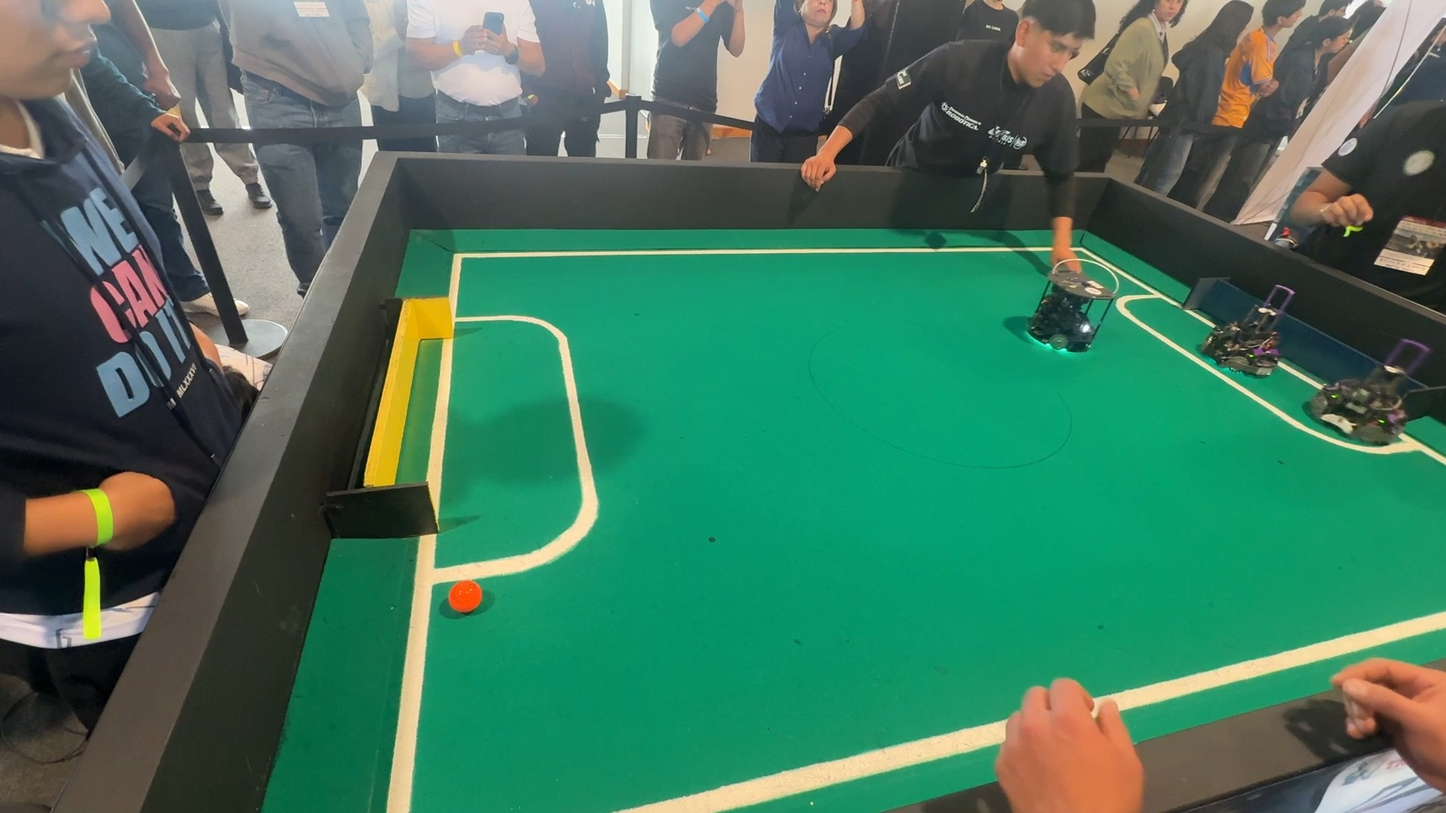Robot: (1300, 322, 1444, 454), (992, 242, 1125, 373), (1200, 271, 1307, 403)
pelota: (444, 577, 495, 621)
